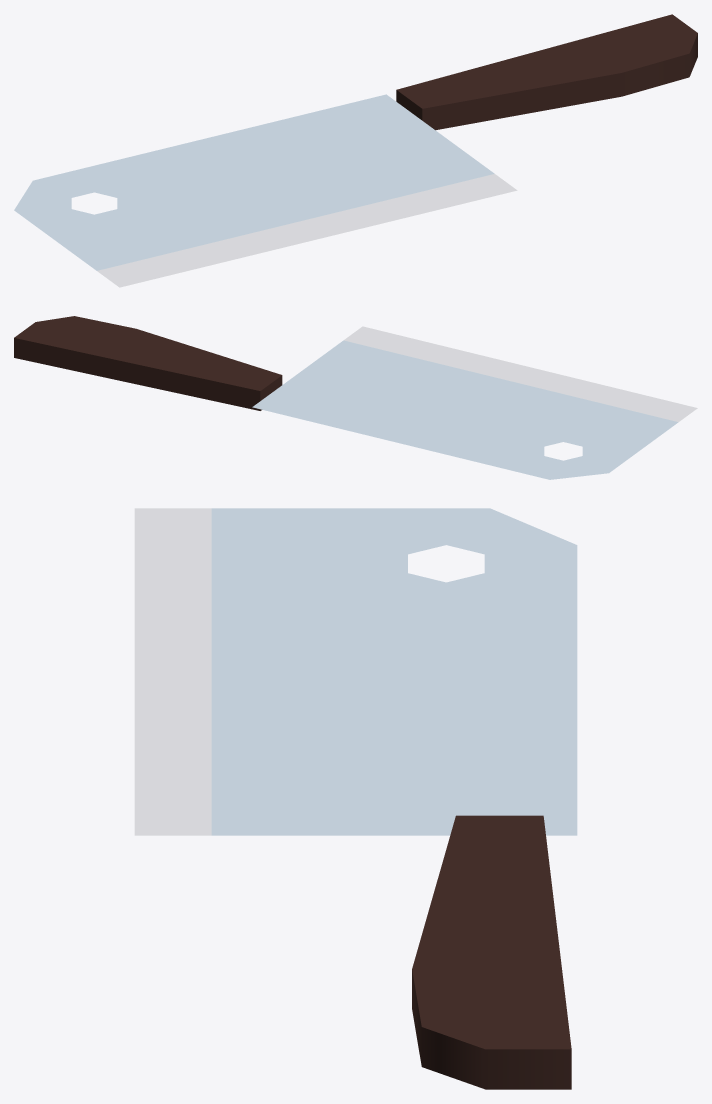
The model's file is cookingKnifeChopping.obj.
3 renders of one model, top to bottom at view 1: azimuth 30°, elevation 25°; view 2: azimuth 150°, elevation 25°; view 3: azimuth 270°, elevation 25°, orthographic. The views are drawn at different scales.
Visible parts, largest first — view 1: cookingKnifeChopping; view 2: cookingKnifeChopping; view 3: cookingKnifeChopping.
Boxes of the visible parts, x1,y1,x2,y2 form: cookingKnifeChopping: (14, 14, 697, 287); cookingKnifeChopping: (14, 316, 697, 479); cookingKnifeChopping: (134, 508, 577, 1089).
Size of the model in its own units: 0.6 by 0.02 by 0.2.
